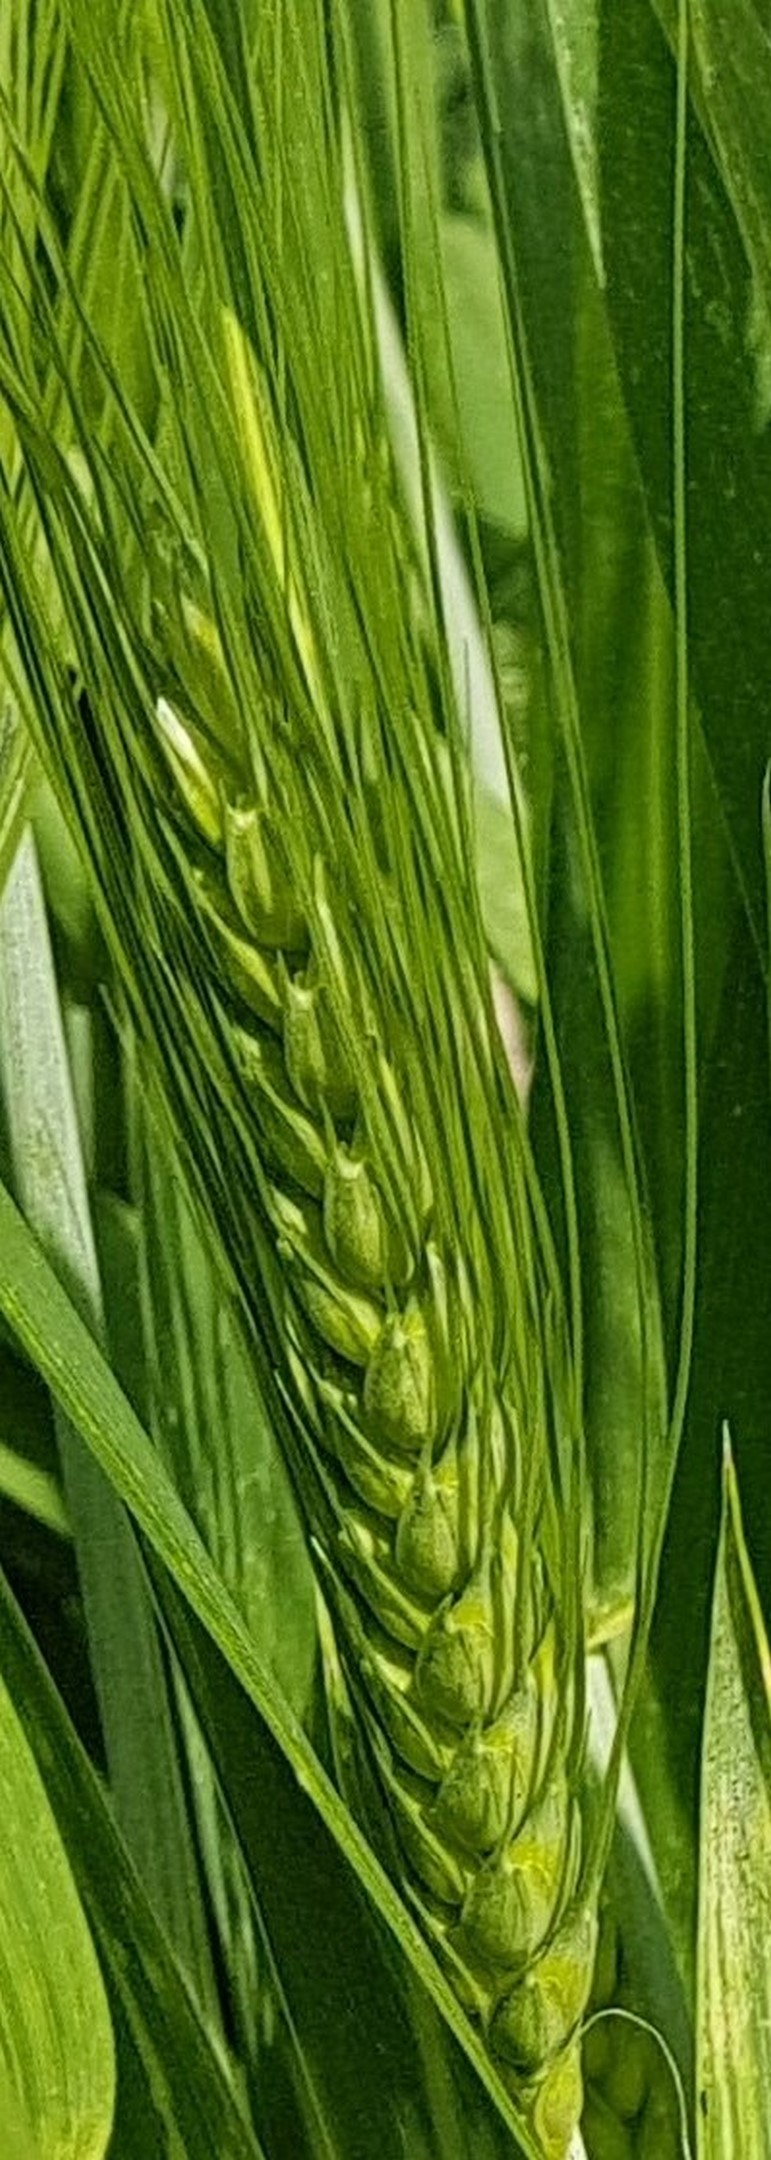Healthy Wheat: (95, 591, 675, 2087)
